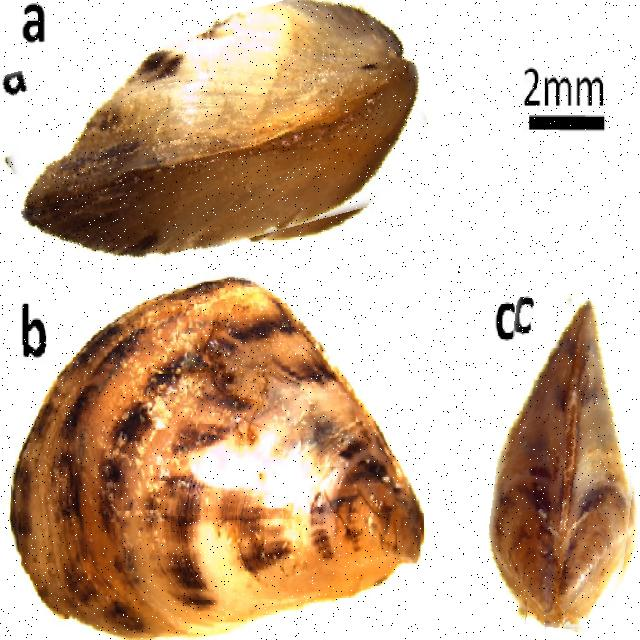Dreissena_bugensis: (10, 277, 423, 638), (0, 0, 437, 267), (488, 294, 640, 631)
